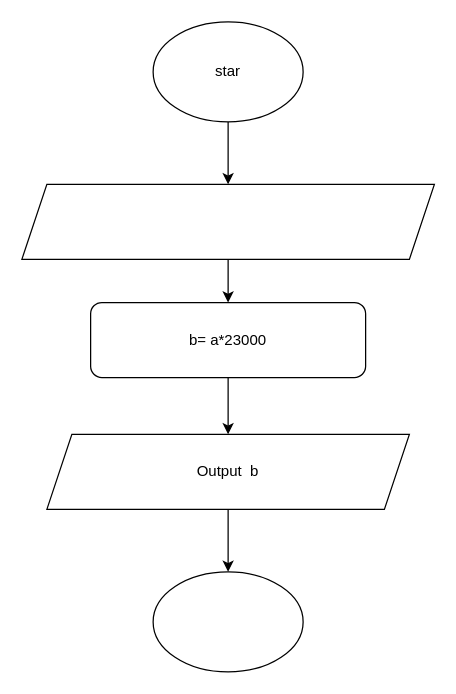
Some shapes in this 456 by 694 pixel diagram are drawn without their labels. Here are the shapes that lost their labels. From the top down, the box of each, then its label:
(21, 183, 434, 259): Input a
(152, 571, 303, 672): end
